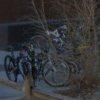Bicycle: (5, 34, 78, 92)
